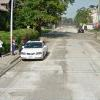Car: (19, 31, 52, 62)
